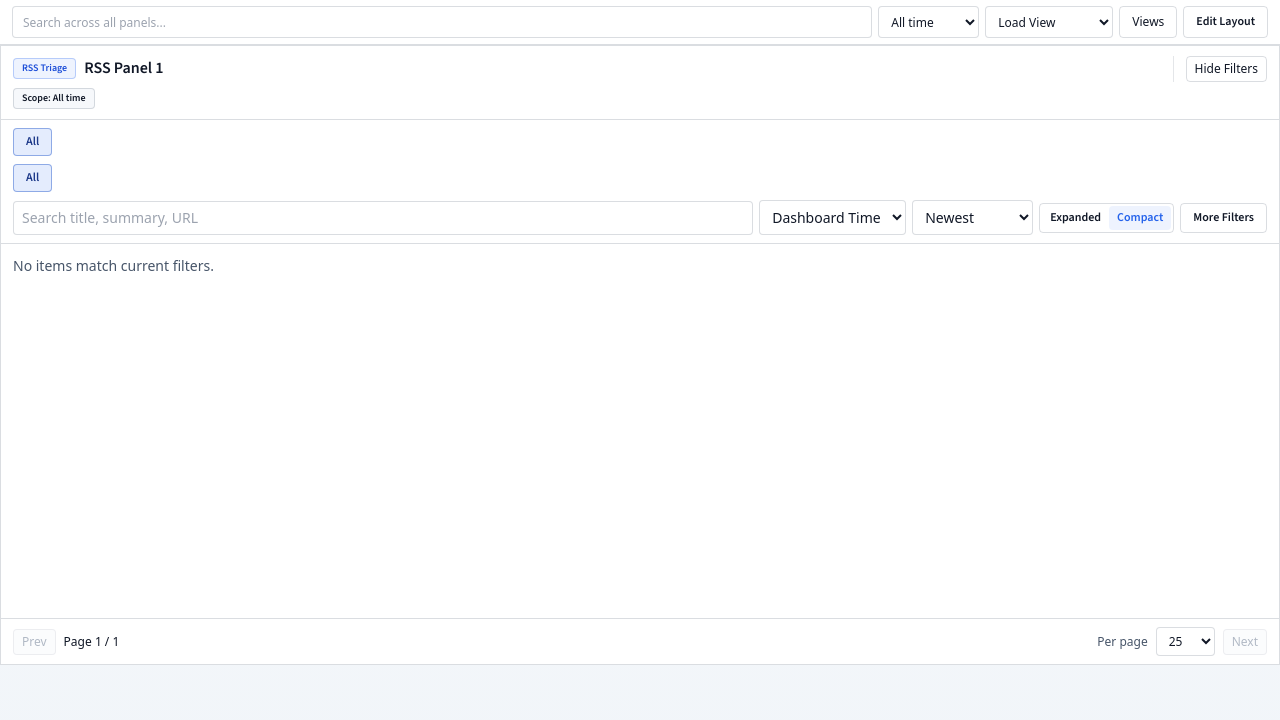
DashboardPage DOM workflows › keeps a failed saved-view deletion target open and renders the failure
Click the button "Views": (1148,22) [1119,6,1177,38]
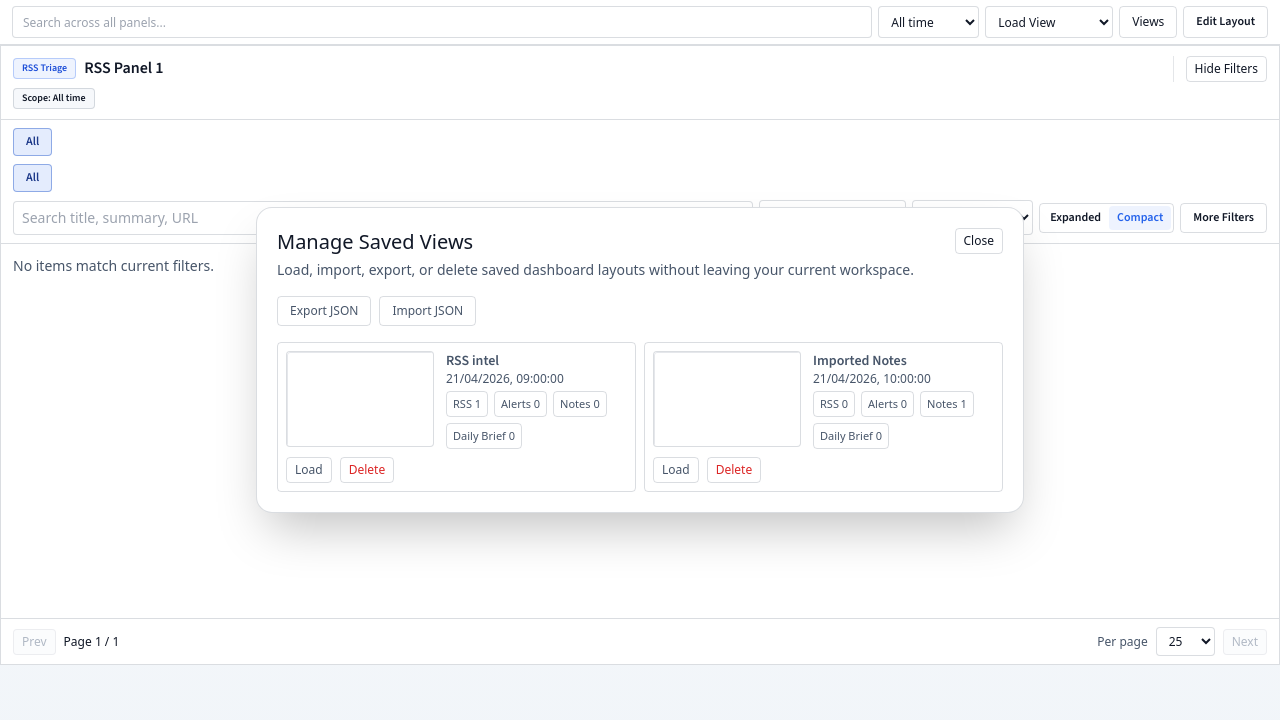
Click the button with aria-label "Delete saved view RSS intel": (367,470) [340,457,394,483]
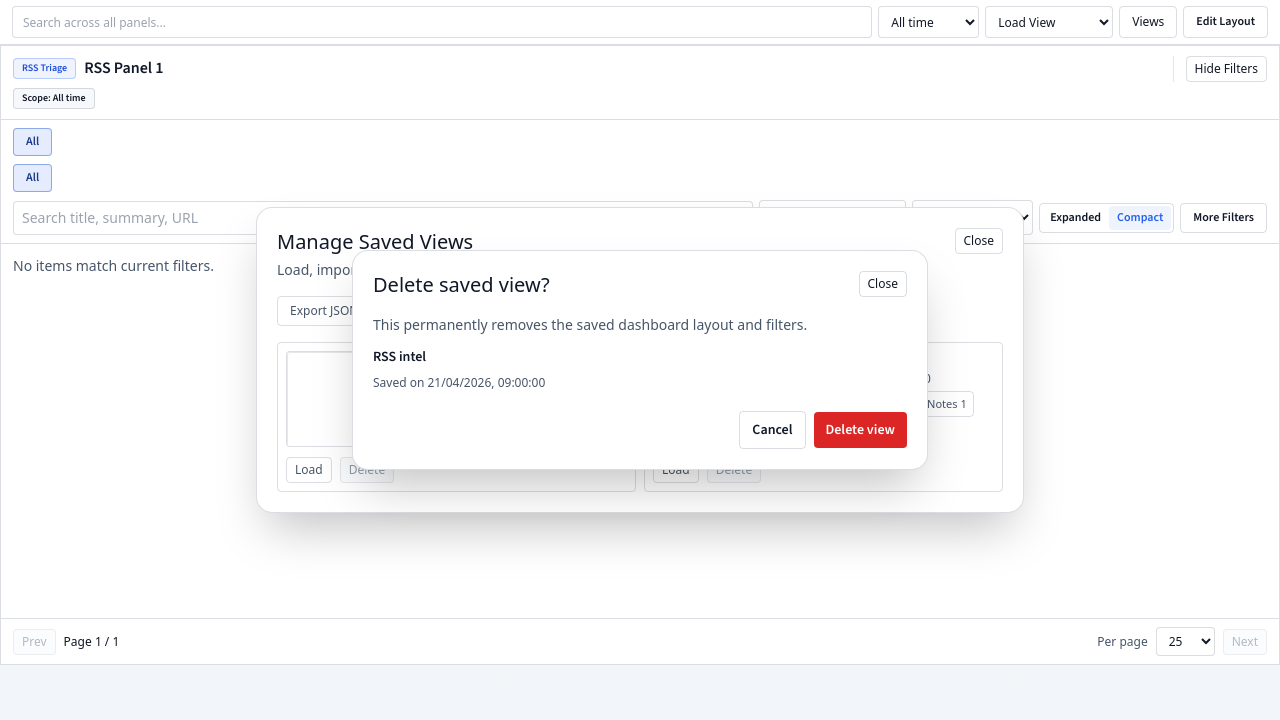
Click the button "Delete view": (860,430) [814,412,907,448]
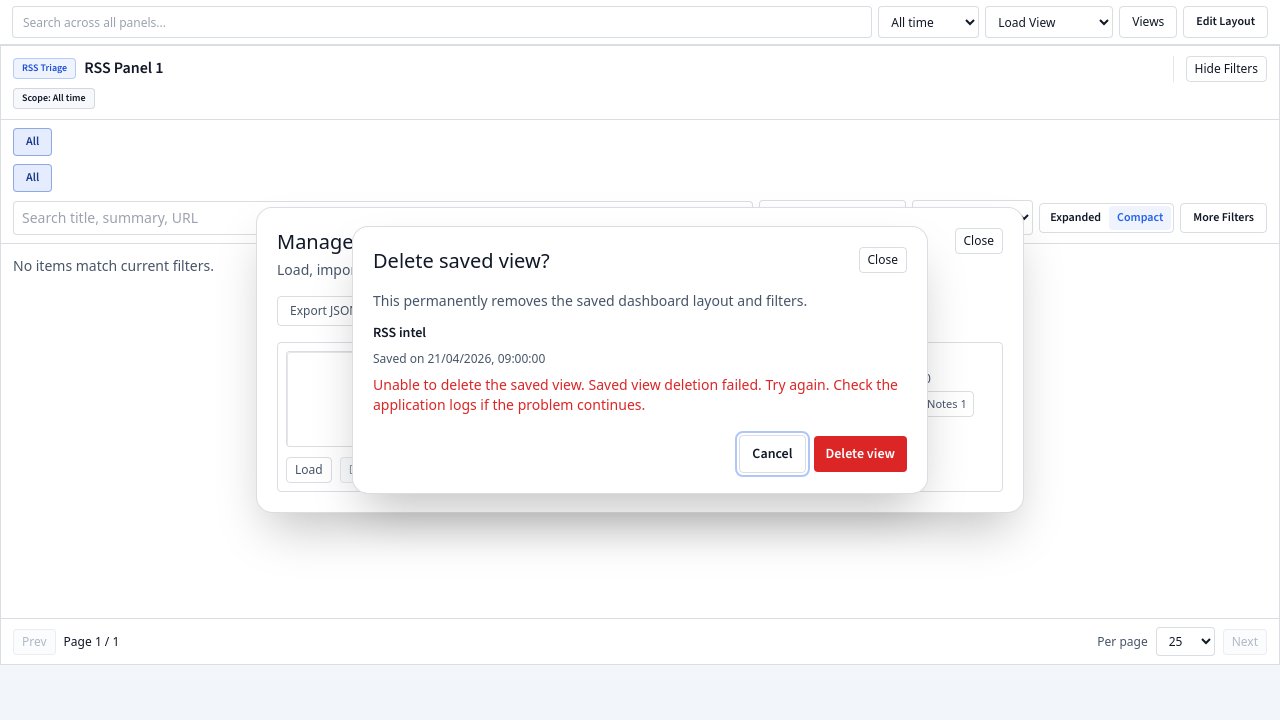
Check: the text "Delete saved view?" is shown, box [373,247,550,274]
Check: the text "RSS intel" is shown, box [446,351,499,371]
Check: the message shows "Saved view deletion failed.", box [373,375,898,414]
